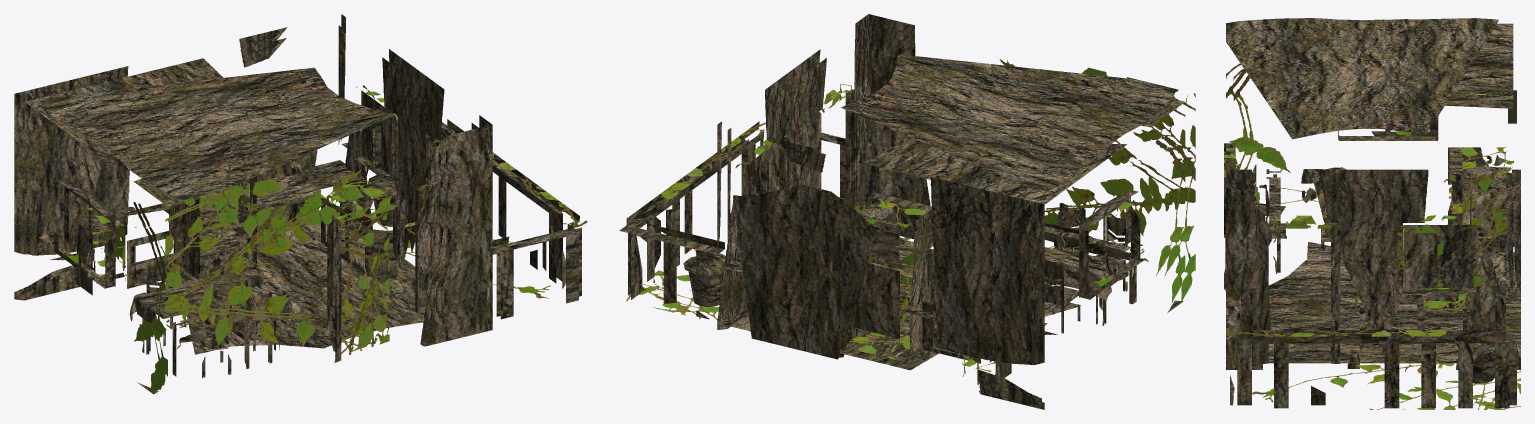
File: kitchen-BAKED.obj
The picture shows the model from 3 angles, left to right: view 1: azimuth 30°, elevation 25°; view 2: azimuth 150°, elevation 25°; view 3: azimuth 270°, elevation 25°; orthographic projection. The views are drawn at different scales.
Visible parts, largest first — view 1: Fence_Plane.018; view 2: Fence_Plane.018; view 3: Fence_Plane.018.
Part boxes in pixels (x1,y1,x2,y2): Fence_Plane.018: [14, 14, 587, 394]; Fence_Plane.018: [619, 14, 1195, 409]; Fence_Plane.018: [1224, 18, 1520, 409].
Size of the model in its own units: 65.35 by 30 by 40.27.
